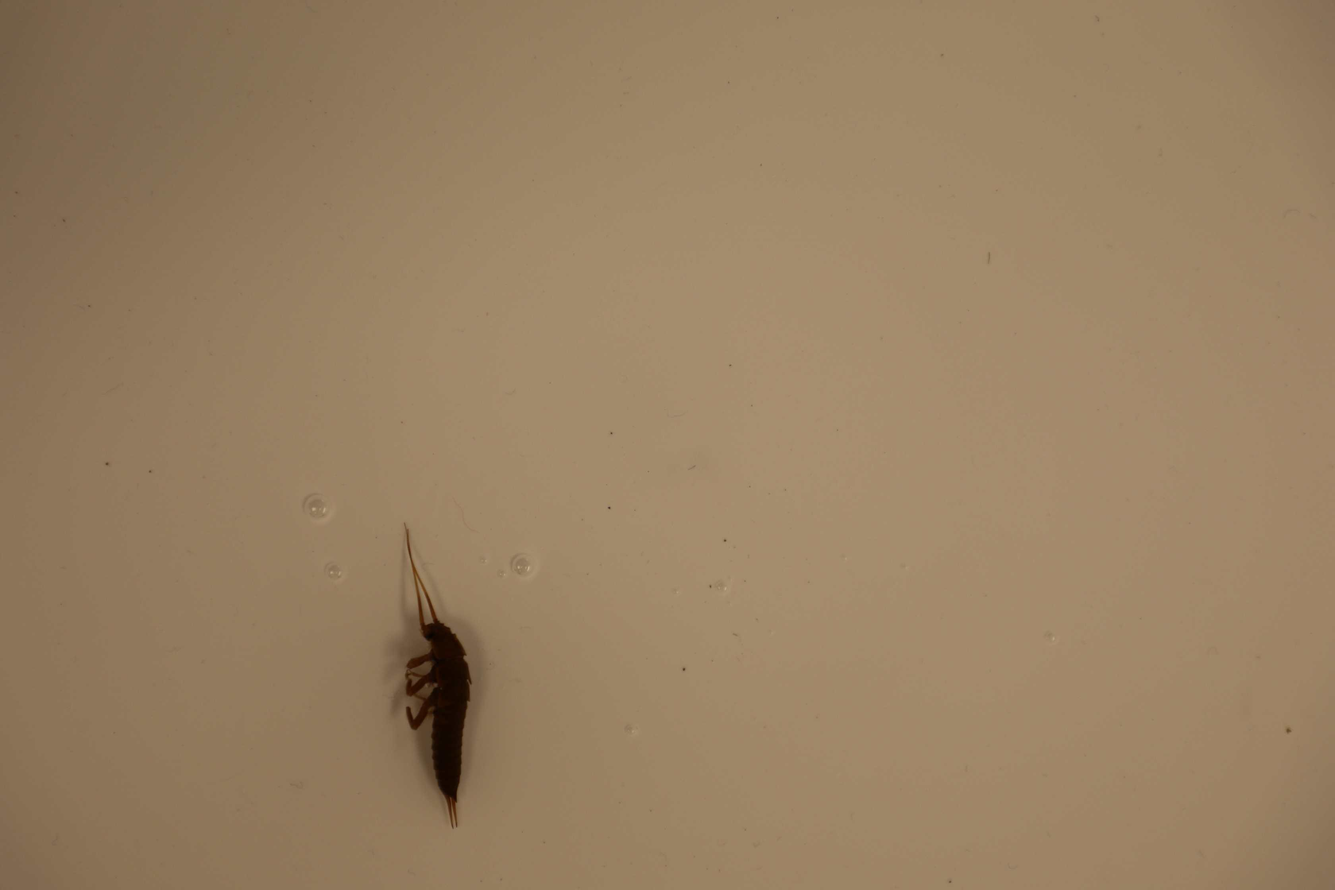Stonefly: (395, 520, 476, 831)
